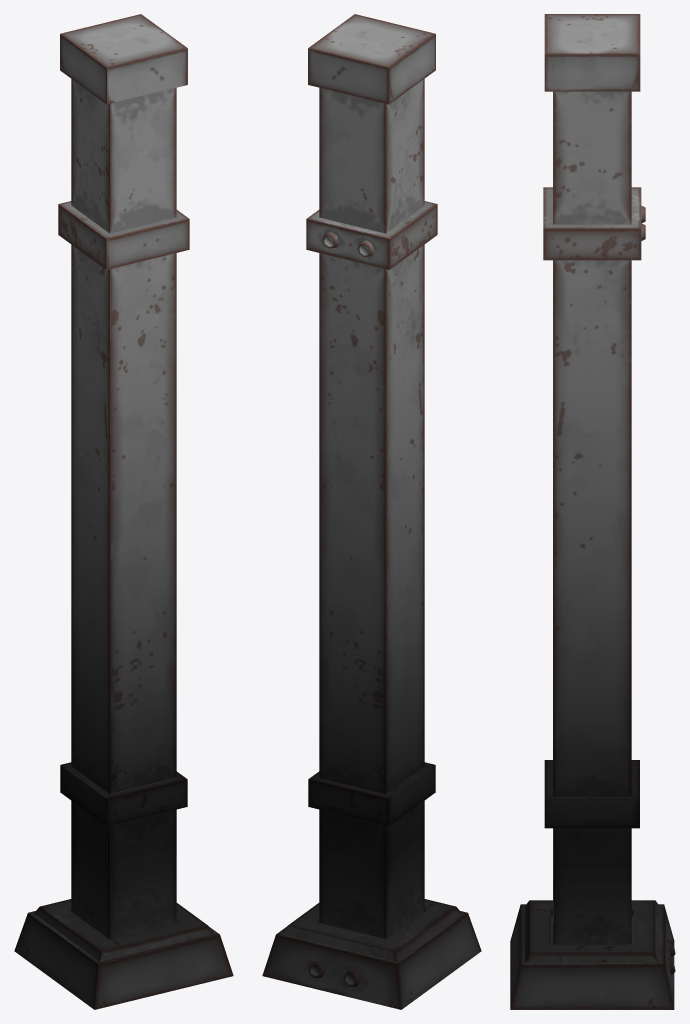
Rendered from Factory_ConstBlock.fbx.
3 renders of one model, left to right at view 1: azimuth 30°, elevation 25°; view 2: azimuth 150°, elevation 25°; view 3: azimuth 270°, elevation 25°, orthographic. The views are drawn at different scales.
Visible parts, largest first — view 1: Cube.050; view 2: Cube.050; view 3: Cube.050.
Part boxes in pixels (x1,y1,x2,y2): Cube.050: [14, 14, 233, 1009]; Cube.050: [262, 14, 481, 1009]; Cube.050: [510, 14, 675, 1009].
Size of the model in its own units: 161 by 1020 by 162.
Materials: 1 (1 with a texture image).
